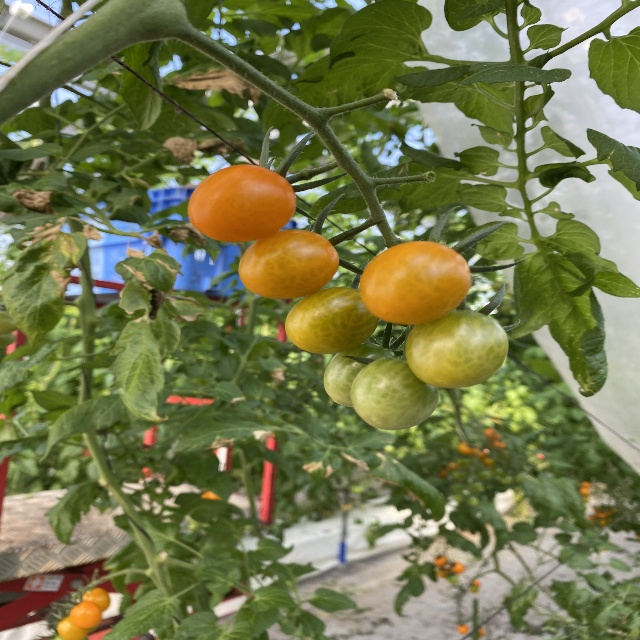l_green: (404, 309, 508, 389), (350, 359, 442, 431), (324, 343, 406, 407)
l_half_ripened: (360, 240, 472, 324), (187, 164, 297, 242), (238, 228, 339, 300), (283, 285, 378, 354)
